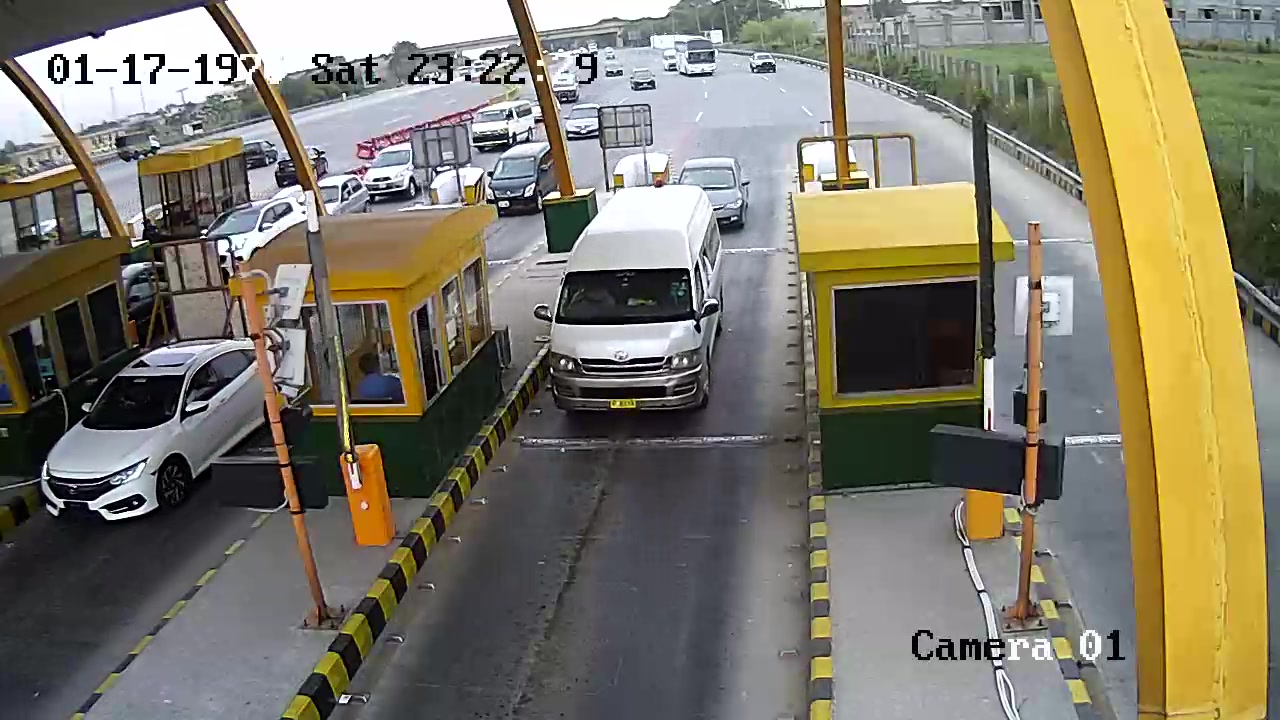F3: (544, 182, 724, 426)
